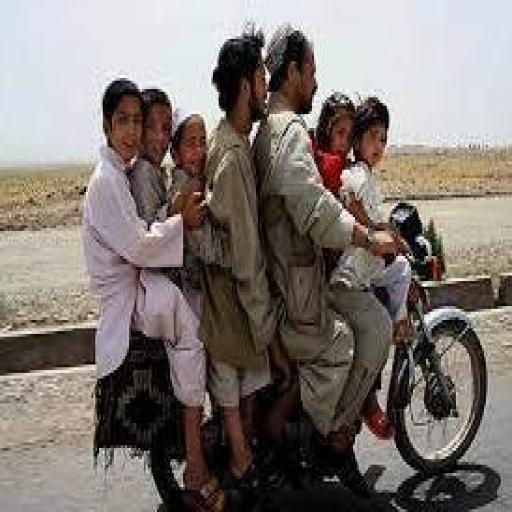no helmet: (268, 24, 340, 149)
triple riding: (76, 25, 502, 512)
